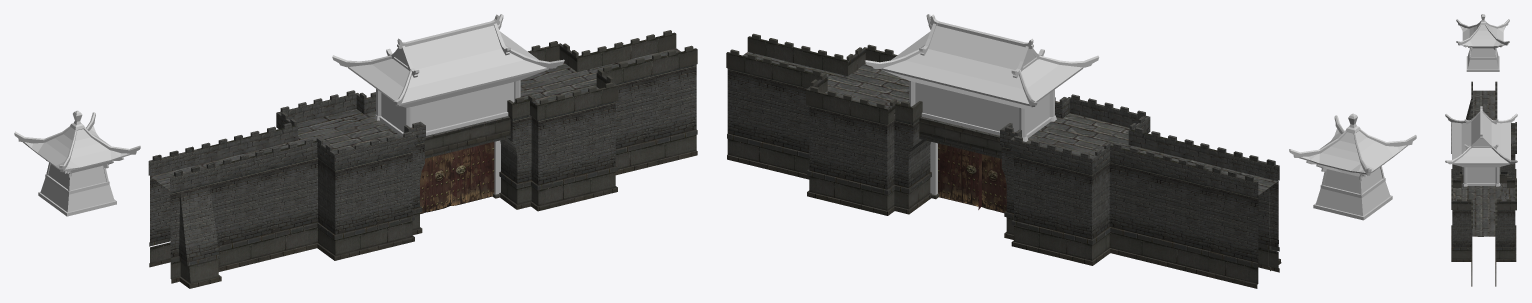
The model's file is s7_3d_chengqiang2.FBX.
The picture shows the model from 3 angles, left to right: view 1: azimuth 30°, elevation 25°; view 2: azimuth 150°, elevation 25°; view 3: azimuth 270°, elevation 25°; orthographic projection. The views are drawn at different scales.
Parts seen in each view (by area): view 1: Object014, Object015, Group011, Group012, Object018, Object019, Rectangle011, Rectangle005, s7_3d_chengmeng; view 2: Object014, Object015, Group011, Object018, Group012, Rectangle011, Rectangle005, s7_3d_chengmeng; view 3: Object015, Group011, Group012, Object014, Object018, Object019.
Boxes of the visible parts, x1=… form: Object014: x1=198, y1=90, x2=425, y2=271; Object015: x1=499, y1=30, x2=697, y2=211; Group011: x1=332, y1=14, x2=564, y2=136; Group012: x1=14, y1=110, x2=140, y2=216; Object018: x1=148, y1=146, x2=220, y2=283; Object019: x1=179, y1=184, x2=221, y2=288; Rectangle011: x1=450, y1=142, x2=494, y2=205; Rectangle005: x1=425, y1=116, x2=510, y2=158; s7_3d_chengmeng: x1=420, y1=152, x2=500, y2=213; Object014: x1=1000, y1=94, x2=1229, y2=276; Object015: x1=726, y1=33, x2=931, y2=215; Group011: x1=864, y1=14, x2=1099, y2=141; Object018: x1=1207, y1=151, x2=1279, y2=288; Group012: x1=1289, y1=113, x2=1416, y2=220; Rectangle011: x1=938, y1=143, x2=979, y2=209; Rectangle005: x1=919, y1=117, x2=1001, y2=158; s7_3d_chengmeng: x1=931, y1=153, x2=1006, y2=212; Object015: x1=1451, y1=173, x2=1516, y2=286; Group011: x1=1445, y1=106, x2=1517, y2=186; Group012: x1=1456, y1=14, x2=1509, y2=71; Object014: x1=1451, y1=95, x2=1516, y2=179; Object018: x1=1471, y1=81, x2=1497, y2=104; Object019: x1=1466, y1=99, x2=1471, y2=120.
Size of the model in its own units: 9243 by 2528 by 1576.
